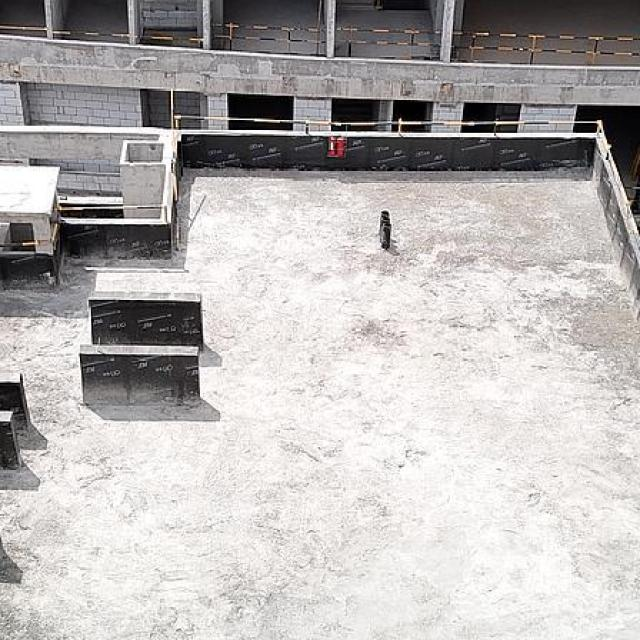Guardrail: (60, 113, 640, 246), (451, 30, 640, 66), (212, 22, 327, 54), (336, 24, 443, 57), (136, 34, 204, 49), (52, 29, 129, 38), (0, 22, 47, 32)
